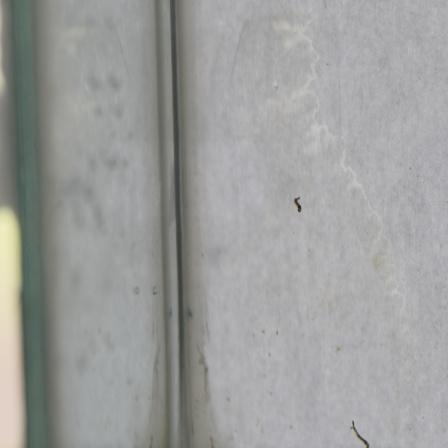Jentik-Nyamuk: (348, 415, 372, 448), (291, 192, 303, 216)
